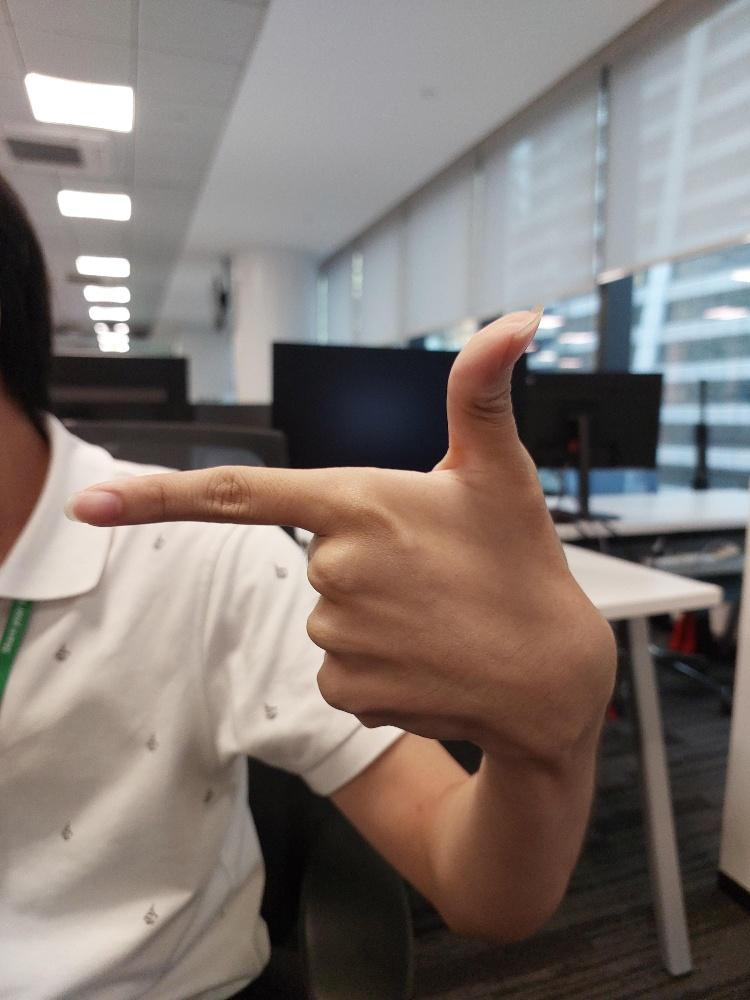g: (66, 304, 614, 746)
